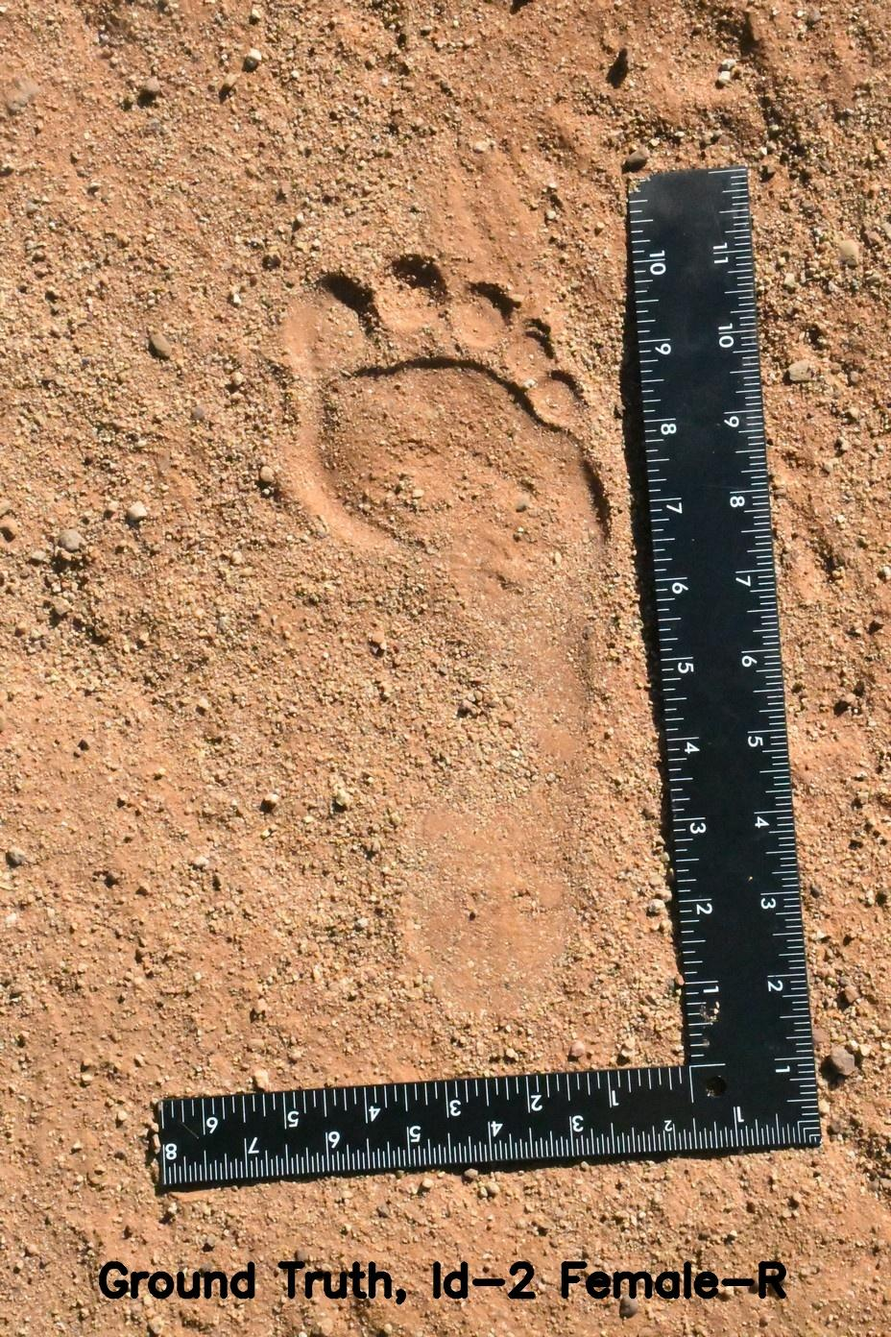human_foot_print: (228, 218, 656, 1053)
